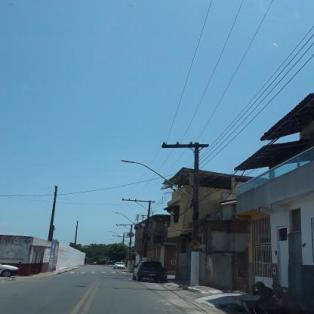Poste: (186, 142, 200, 287)
